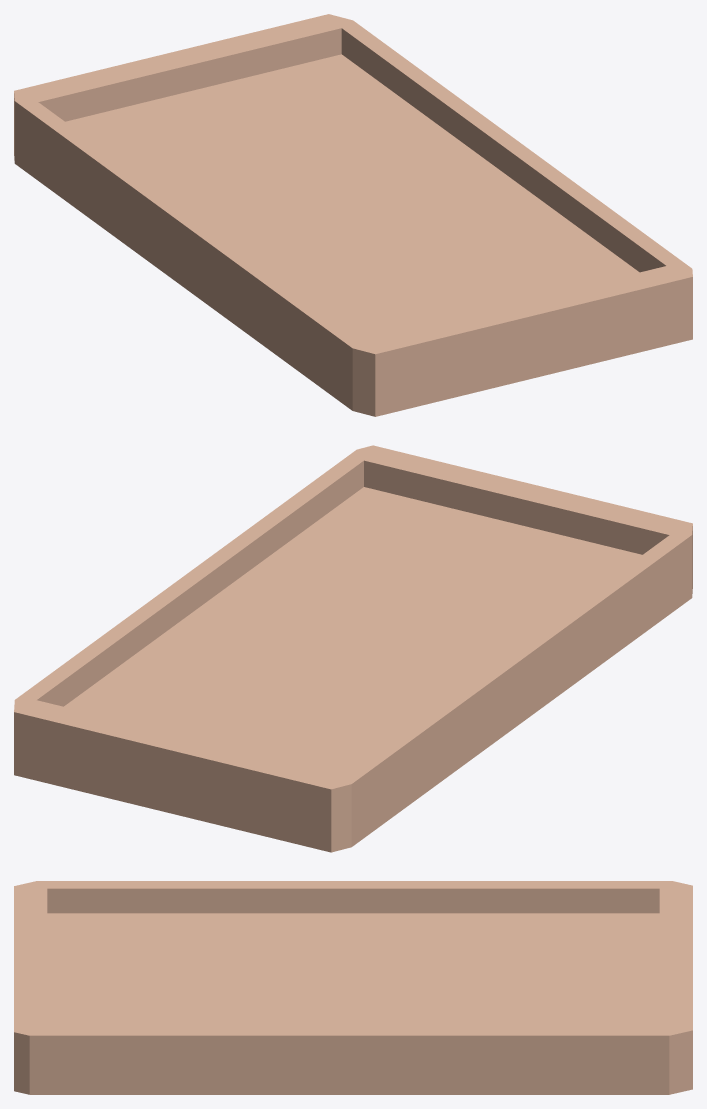
File: empty_sign.gltf
3 views of the same model, one above another, from view 1: azimuth 30°, elevation 25°; view 2: azimuth 150°, elevation 25°; view 3: azimuth 270°, elevation 25° (orthographic). The views are drawn at different scales.
Parts seen in each view (by area): view 1: Cube; view 2: Cube; view 3: Cube.
Part boxes in pixels (box(x1,y1,x2,y2)): Cube: box(14, 14, 692, 416); Cube: box(14, 445, 692, 852); Cube: box(14, 881, 692, 1094).
Bounding box in the file's own units: 0.7831 × 0.1394 × 1.45.
